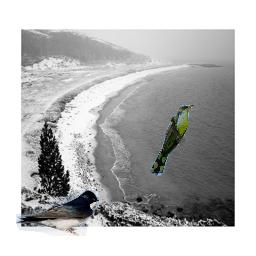Cuckoo: (151, 105, 194, 176)
Swallow: (16, 190, 99, 236)
